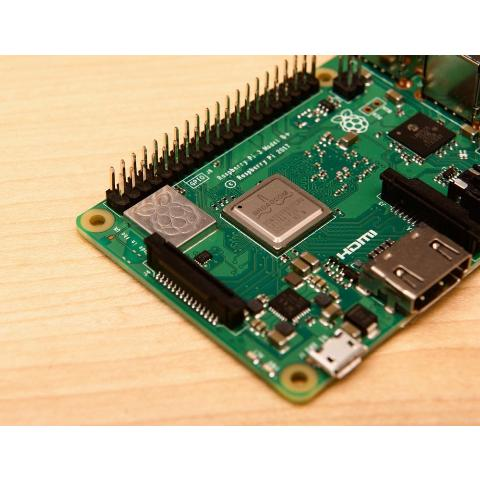Raspberry-Pi-3-Model-B-: (74, 54, 480, 410)
